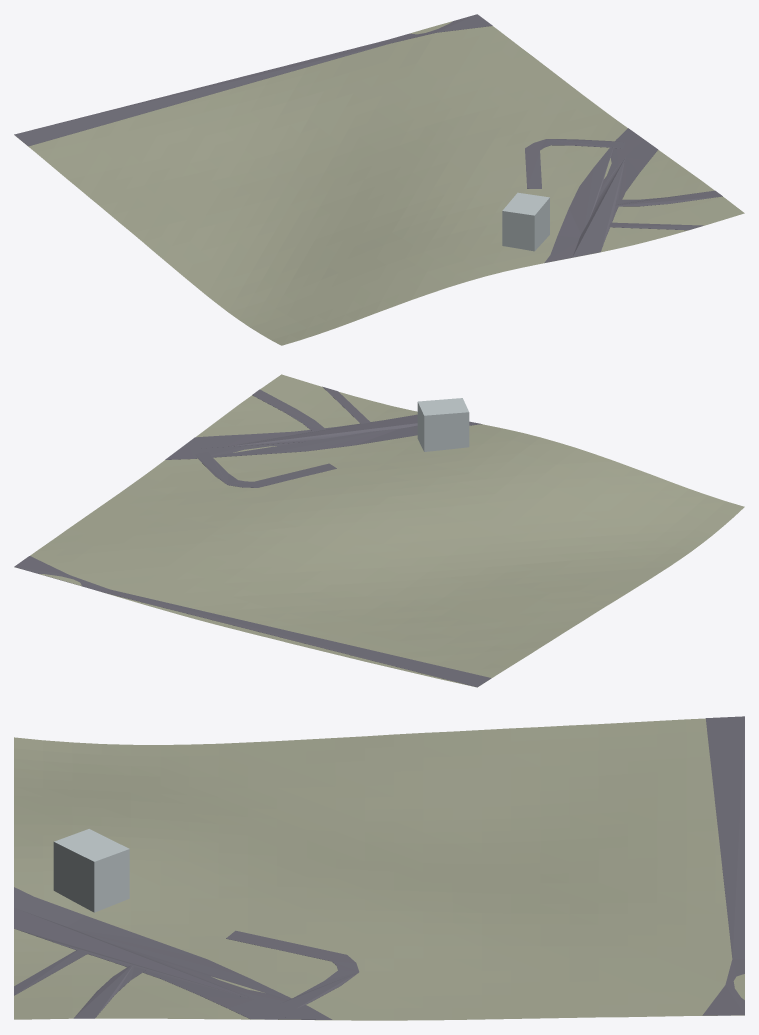
File: chunk_10_0.glb
The picture shows the model from 3 angles, top to bottom: view 1: azimuth 30°, elevation 25°; view 2: azimuth 150°, elevation 25°; view 3: azimuth 270°, elevation 25°; orthographic projection. The views are drawn at different scales.
Parts seen in each view (by area): view 1: geometry_1, geometry_3, geometry_5, geometry_4, geometry_0, geometry_7, geometry_6, geometry_2; view 2: geometry_1, geometry_3, geometry_5, geometry_4, geometry_0, geometry_7, geometry_2, geometry_6; view 3: geometry_1, geometry_3, geometry_5, geometry_4, geometry_0, geometry_7, geometry_2, geometry_6, geometry_8.
Part boxes in pixels (<box>): geometry_1: <box>14,21,744,345</box>; geometry_3: <box>14,40,390,146</box>; geometry_5: <box>544,128,643,262</box>; geometry_4: <box>572,139,658,257</box>; geometry_0: <box>502,192,549,251</box>; geometry_7: <box>525,139,624,188</box>; geometry_6: <box>615,190,722,206</box>; geometry_2: <box>386,14,492,43</box>; geometry_1: <box>14,374,744,687</box>; geometry_3: <box>105,589,491,687</box>; geometry_5: <box>165,421,481,459</box>; geometry_4: <box>181,414,417,448</box>; geometry_0: <box>417,398,469,451</box>; geometry_7: <box>195,452,336,487</box>; geometry_2: <box>14,556,109,592</box>; geometry_6: <box>252,389,325,431</box>; geometry_1: <box>14,718,744,1020</box>; geometry_3: <box>705,716,744,959</box>; geometry_5: <box>14,887,332,1019</box>; geometry_4: <box>14,908,288,1019</box>; geometry_0: <box>53,829,129,912</box>; geometry_7: <box>226,930,359,1008</box>; geometry_2: <box>702,959,744,1015</box>; geometry_6: <box>73,965,146,1018</box>; geometry_8: <box>14,949,88,995</box>.
Size of the model in its own units: 250 by 30.85 by 250.
